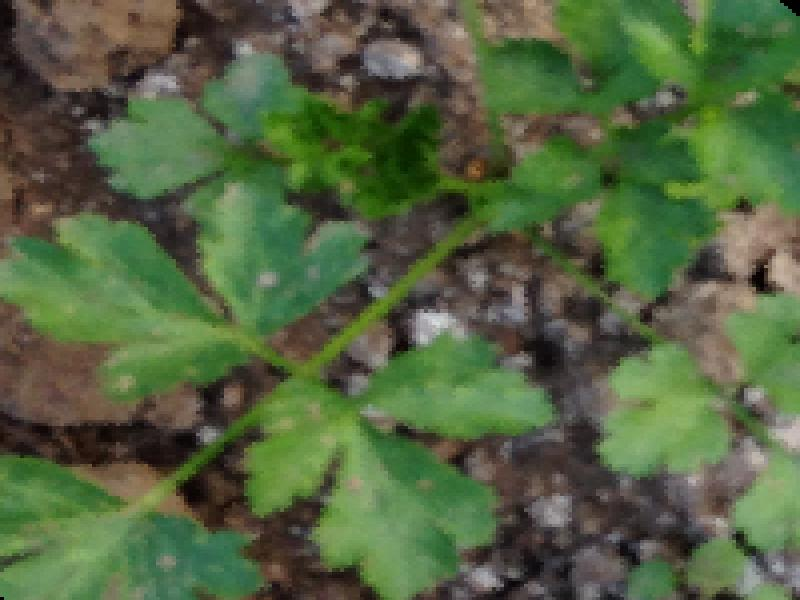radish: (0, 2, 800, 600)
